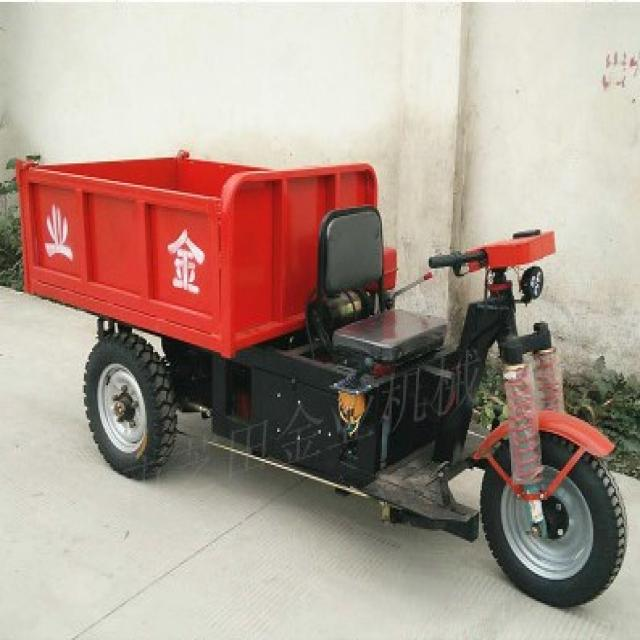tricycle: (13, 146, 625, 605)
